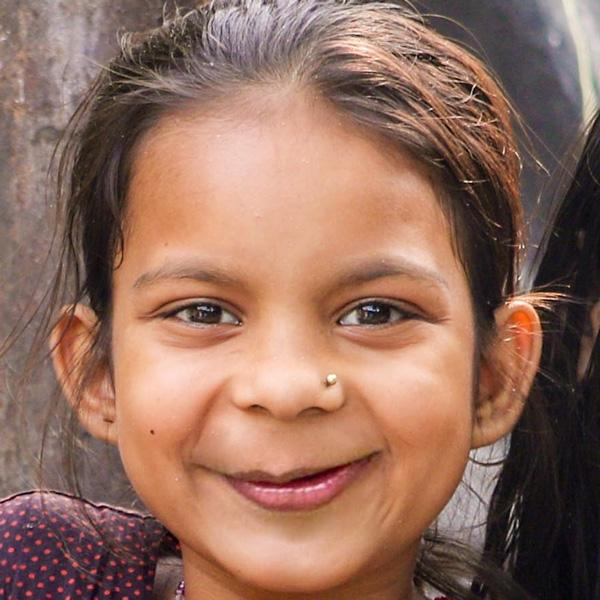Eyes: (144, 280, 251, 346), (329, 285, 437, 348)
